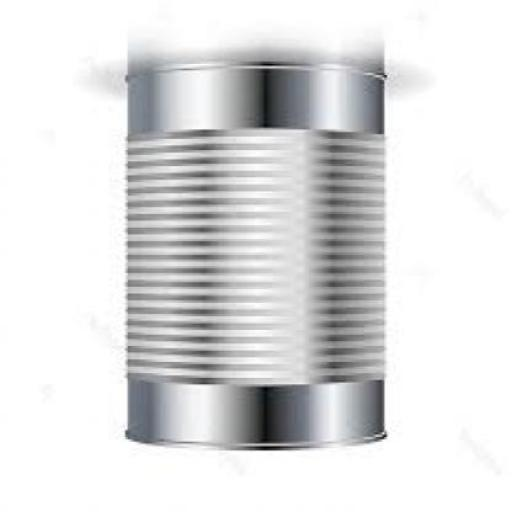metal: (123, 62, 384, 450)
